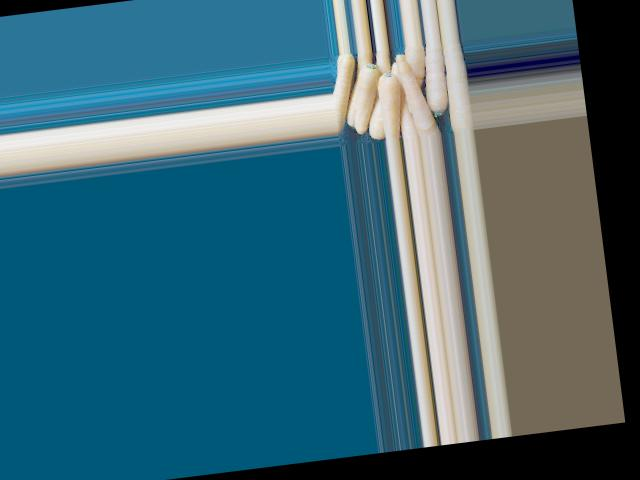carrot: (440, 39, 471, 129)
